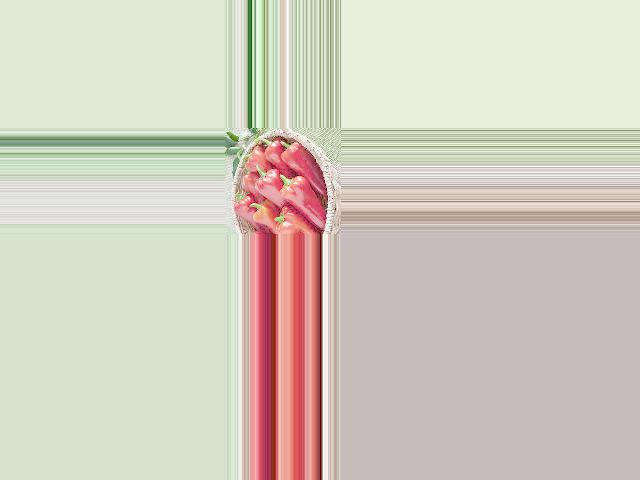bell_pepper: (260, 135, 284, 165)
